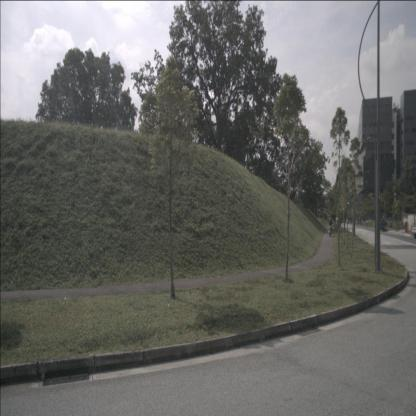vehicle-car: (377, 218, 386, 232)
vehicle-motorcycle: (327, 217, 333, 238)
